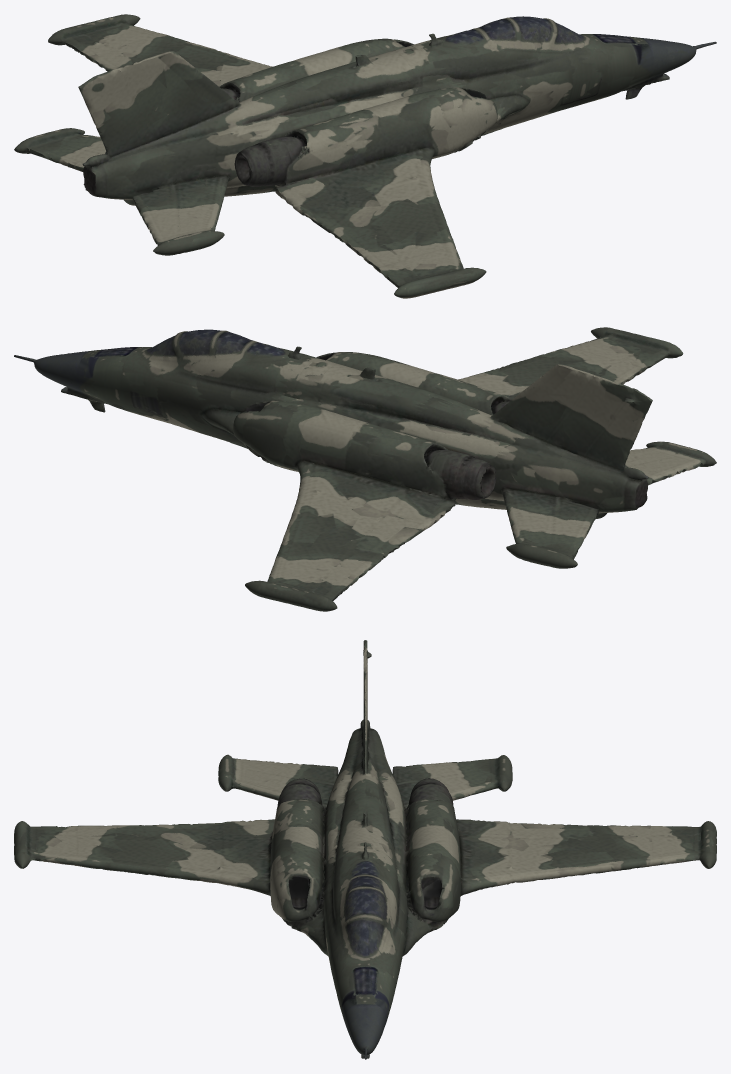
The model's file is fh_hangar_attacker_2.glb.
The picture shows the model from 3 angles, top to bottom: view 1: azimuth 30°, elevation 25°; view 2: azimuth 150°, elevation 25°; view 3: azimuth 270°, elevation 25°; orthographic projection.
Parts seen in each view (by area): view 1: fh_hangar_attacker_2; view 2: fh_hangar_attacker_2; view 3: fh_hangar_attacker_2.
Boxes of the visible parts, x1,y1,x2,y2 form: fh_hangar_attacker_2: (14,14,716,298); fh_hangar_attacker_2: (14,327,716,611); fh_hangar_attacker_2: (14,640,716,1059).
Size of the model in its own units: 0.9995 by 0.2466 by 0.9616.
1 material, 1 textured.
